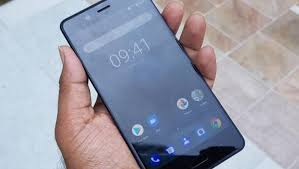nokia: (54, 1, 246, 169)
